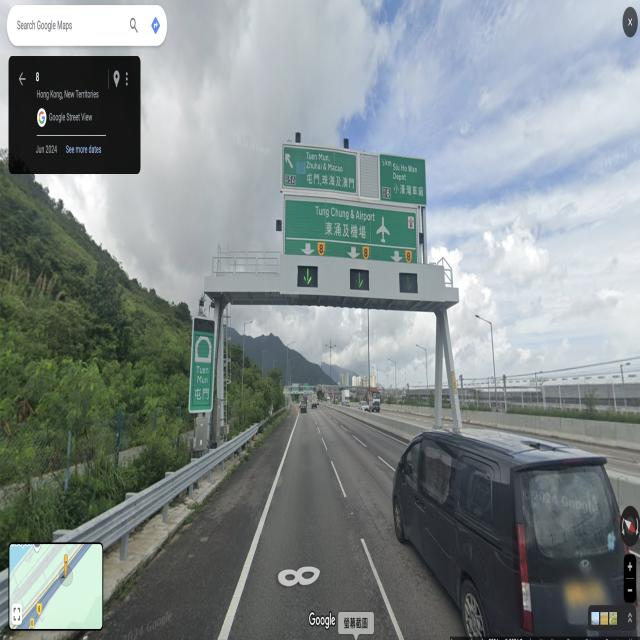Direction-Sign: (286, 201, 417, 264), (284, 146, 357, 192), (380, 154, 427, 204), (190, 332, 214, 409)
